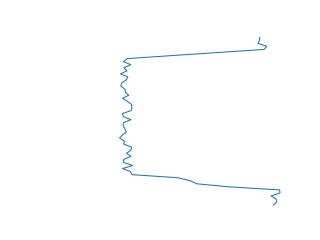distributaryChannelFill: (116, 36, 284, 206)
